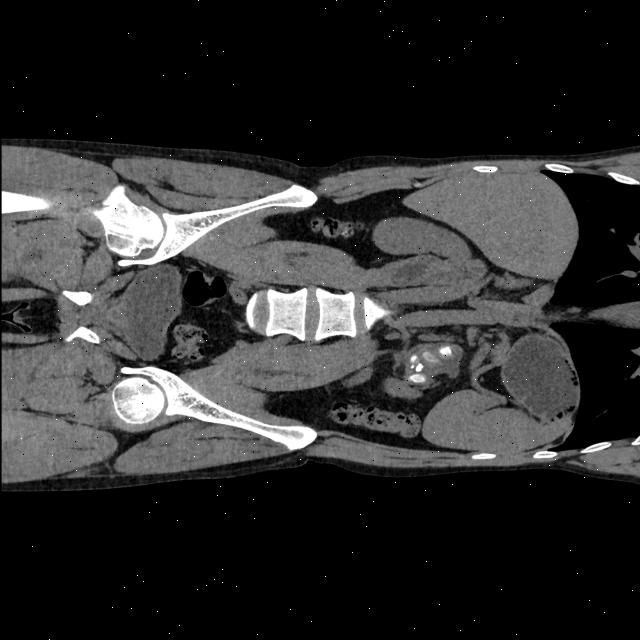kidneystone: (437, 345, 450, 359), (424, 353, 439, 365), (409, 357, 419, 371), (409, 377, 423, 383)
